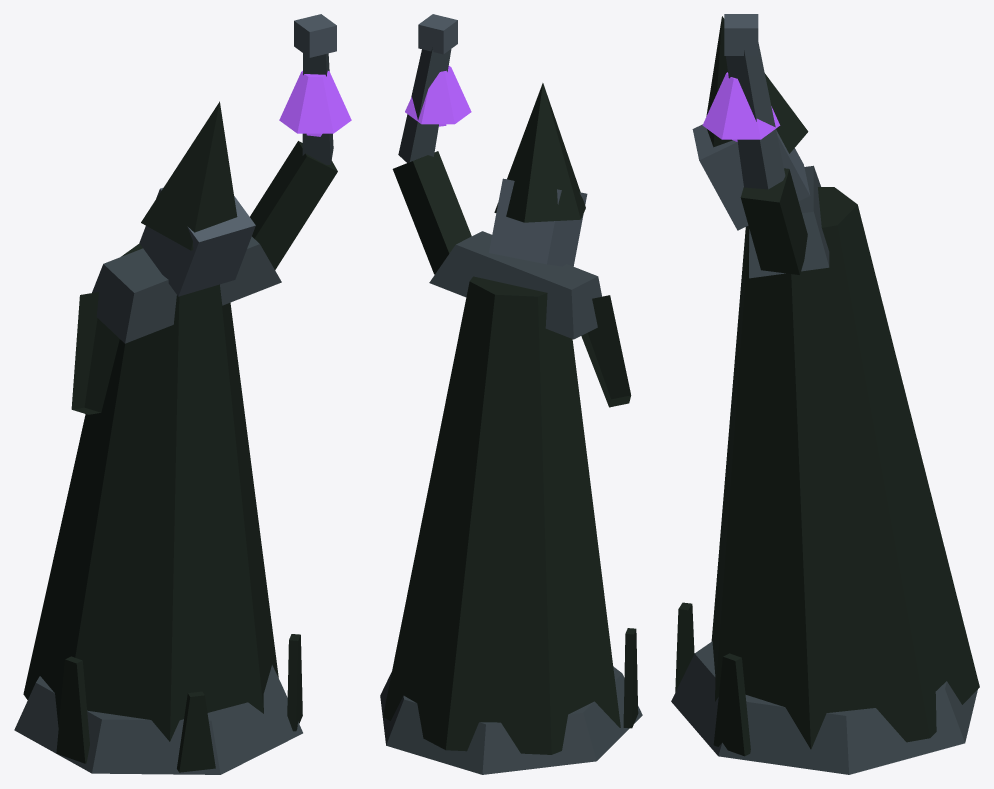
Rendered from sineiro.glb.
3 views of the same model, side by side, from view 1: azimuth 30°, elevation 25°; view 2: azimuth 150°, elevation 25°; view 3: azimuth 270°, elevation 25° (orthographic). The views are drawn at different scales.
Parts seen in each view (by area): view 1: corpo, cabeca, braco, sineta; view 2: corpo, cabeca, braco, sineta; view 3: corpo, braco, cabeca, sineta.
Part boxes in pixels (left/top/right/bottom): corpo: left=14, top=236, right=302, bottom=774; cabeca: left=139, top=101, right=255, bottom=296; braco: left=250, top=14, right=337, bottom=269; sineta: left=279, top=71, right=351, bottom=136; corpo: left=380, top=231, right=642, bottom=774; cabeca: left=489, top=83, right=587, bottom=266; braco: left=392, top=14, right=471, bottom=274; sineta: left=405, top=65, right=471, bottom=126; corpo: left=671, top=165, right=979, bottom=774; braco: left=724, top=14, right=807, bottom=274; cabeca: left=692, top=16, right=810, bottom=230; sineta: left=702, top=72, right=780, bottom=141.
Bounding box in the file's own units: 0.9813 × 2.43 × 0.9122.
